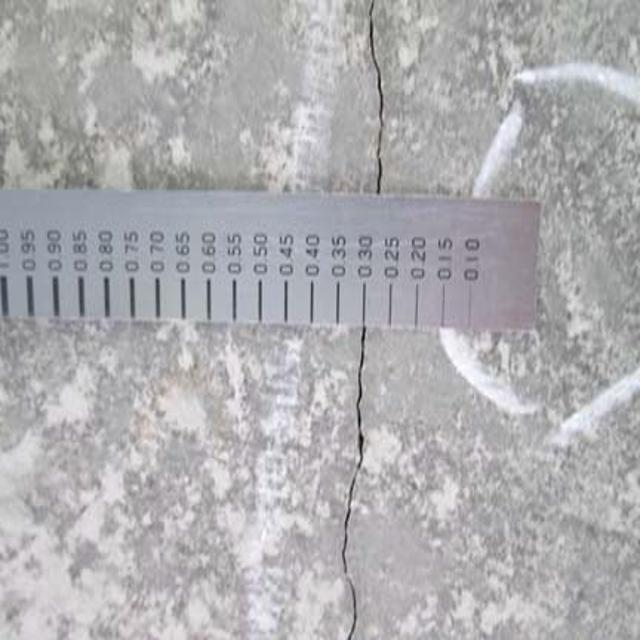crack: (324, 320, 387, 640), (347, 1, 407, 200)
